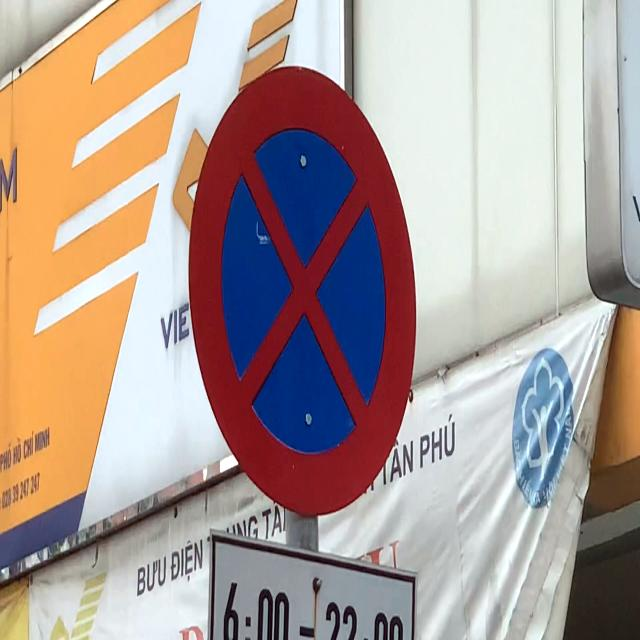P.130: (188, 64, 418, 518)
